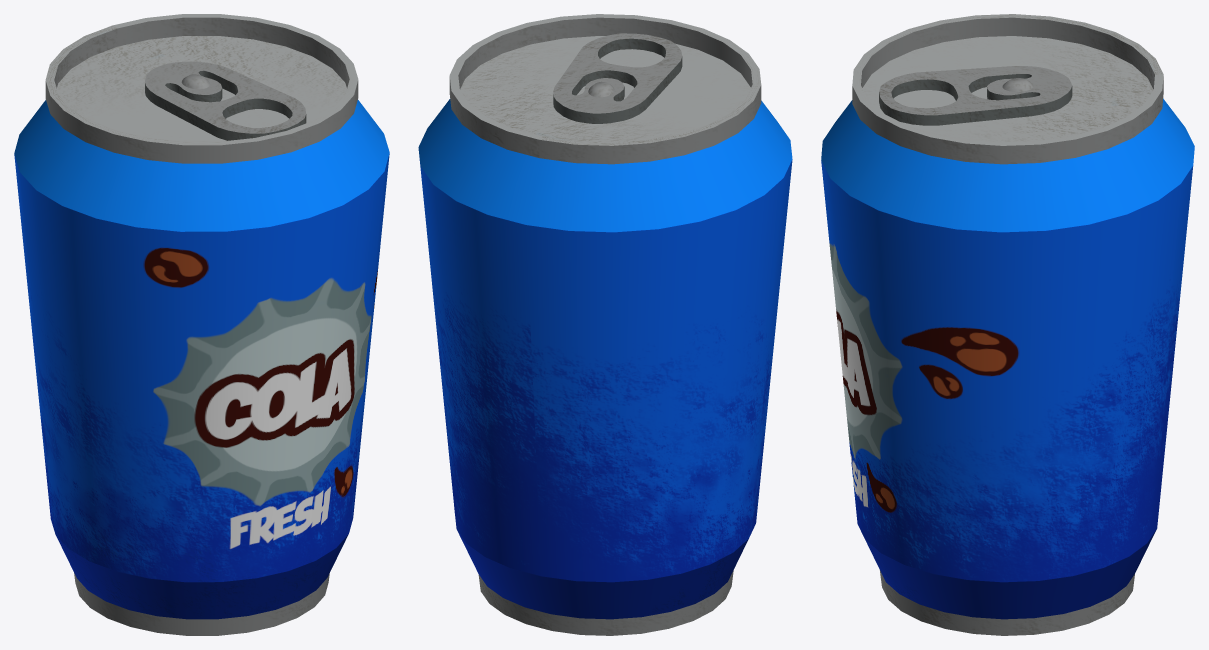
The model's file is 콜라캔.fbx.
The picture shows the model from 3 angles, left to right: view 1: azimuth 30°, elevation 25°; view 2: azimuth 150°, elevation 25°; view 3: azimuth 270°, elevation 25°; orthographic projection.
Parts seen in each view (by area): view 1: 캔3; view 2: 캔3; view 3: 캔3.
Boxes of the visible parts, x1,y1,x2,y2 form: 캔3: (14,14,389,635); 캔3: (418,14,792,635); 캔3: (821,14,1194,635).
Size of the model in its own units: 179 by 264 by 178.
1 material, 1 textured.
